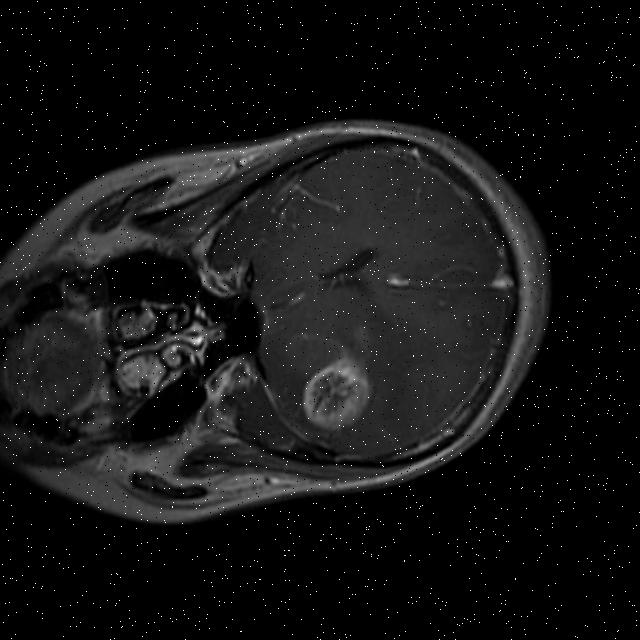Glioma: (291, 350, 384, 439)
